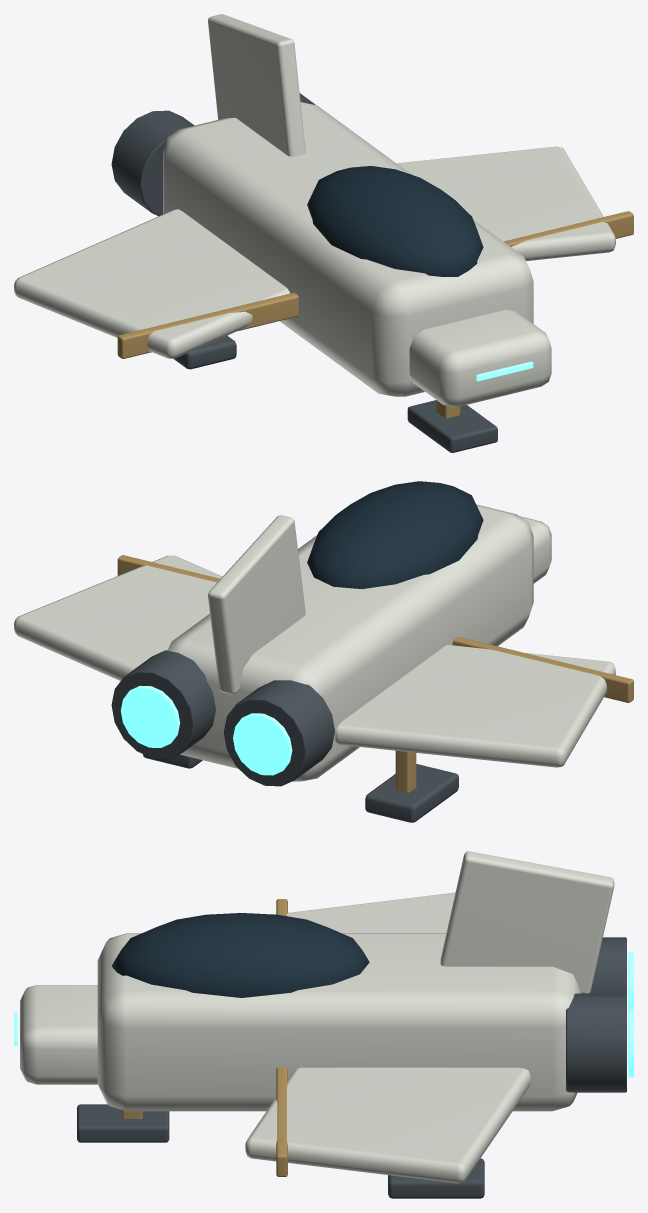
File: ship.glb
3 renders of one model, top to bottom at view 1: azimuth 30°, elevation 25°; view 2: azimuth 150°, elevation 25°; view 3: azimuth 270°, elevation 25°, orthographic. The views are drawn at different scales.
Parts seen in each view (by area): view 1: Fuselage, Delta wing, Canopy, Delta wing.001, Nose, Tail fin, Rear engine, Nose landing foot, Wing leading trim, Landing foot, Wing leading trim.001; view 2: Fuselage, Delta wing, Delta wing.001, Canopy, Tail fin, Rear engine, Rear engine.001, Landing foot, Engine core, Engine core.001, Wing leading trim, Nose (+2 smaller); view 3: Fuselage, Delta wing.001, Tail fin, Canopy, Nose, Rear engine.001, Delta wing, Nose landing foot, Landing foot.001, Rear engine, Wing leading trim.001.
Part boxes in pixels (x1,y1,x2,y2): Fuselage: (163, 102, 533, 396); Delta wing: (14, 209, 289, 358); Canopy: (307, 166, 483, 276); Delta wing.001: (397, 146, 615, 260); Nose: (409, 309, 551, 406); Tail fin: (208, 14, 305, 156); Rear engine: (111, 110, 194, 216); Nose landing foot: (407, 400, 497, 452); Wing leading trim: (117, 292, 298, 358); Landing foot: (173, 335, 236, 369); Wing leading trim.001: (503, 211, 633, 246); Fuselage: (167, 504, 533, 781); Delta wing: (335, 645, 615, 767); Delta wing.001: (14, 555, 222, 680); Canopy: (307, 481, 483, 588); Tail fin: (208, 515, 305, 694); Rear engine: (223, 680, 334, 786); Rear engine.001: (111, 650, 215, 758); Landing foot: (365, 764, 458, 822); Engine core: (233, 713, 292, 775); Engine core.001: (120, 685, 179, 747); Wing leading trim: (452, 636, 633, 702); Nose: (520, 516, 551, 583); Fuselage: (97, 933, 581, 1111); Delta wing.001: (245, 1067, 530, 1183); Tail fin: (440, 851, 614, 993); Canopy: (112, 913, 369, 997); Nose: (20, 985, 97, 1084); Rear engine.001: (566, 993, 626, 1092); Delta wing: (275, 892, 455, 933); Nose landing foot: (77, 1104, 169, 1142); Landing foot.001: (388, 1158, 484, 1198); Rear engine: (589, 937, 626, 994); Wing leading trim.001: (276, 1067, 287, 1176).
Size of the model in its own units: 5.68 by 2.66 by 5.38.
